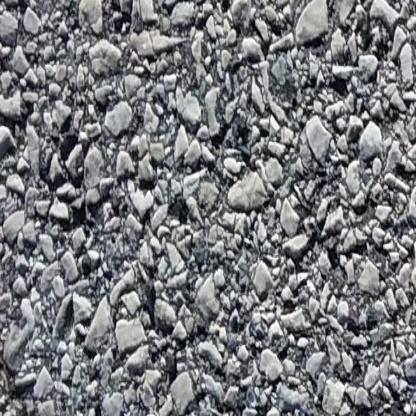Cracks: (360, 370, 416, 416), (0, 379, 69, 416)
